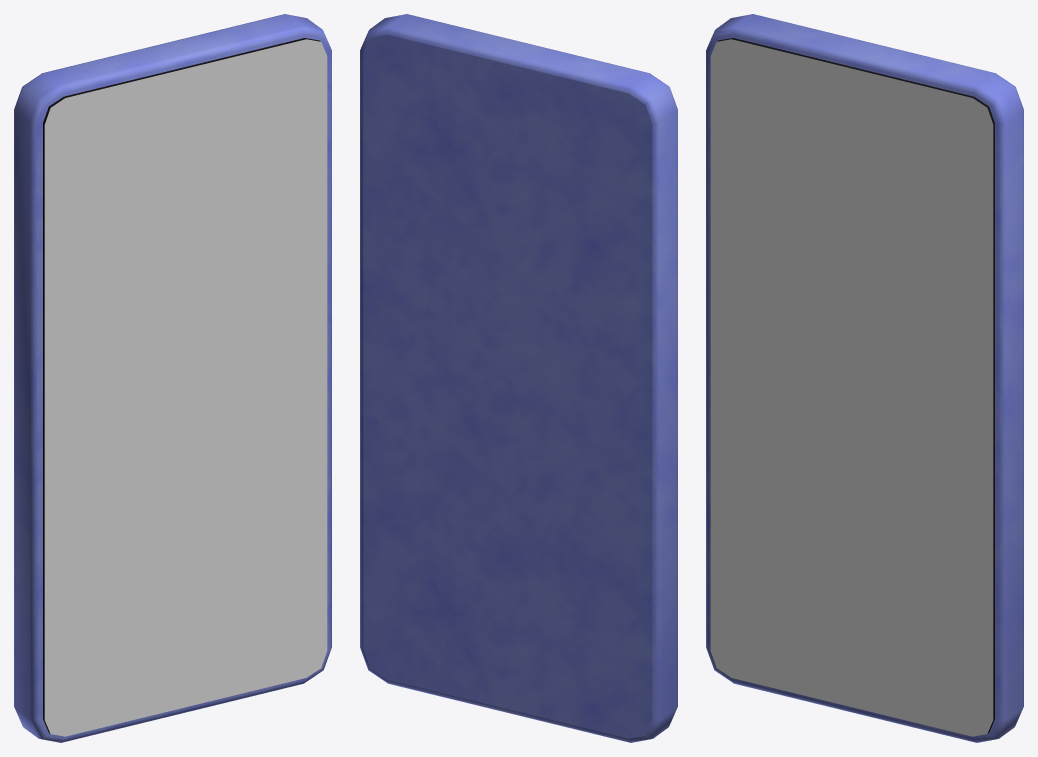
File: Phone.fbx
3 views of the same model, side by side, from view 1: azimuth 30°, elevation 25°; view 2: azimuth 150°, elevation 25°; view 3: azimuth 330°, elevation 25° (orthographic).
Visible parts, largest first — view 1: PhoneScreen, PhoneBody; view 2: PhoneBody; view 3: PhoneScreen, PhoneBody.
Boxes of the visible parts, x1,y1,x2,y2 form: PhoneScreen: (44, 39, 327, 736); PhoneBody: (14, 14, 331, 742); PhoneBody: (360, 14, 677, 742); PhoneScreen: (710, 39, 993, 736); PhoneBody: (706, 14, 1023, 742).
Bounding box in the file's own units: 15.6 × 32.6 × 2.17.
Materials: 1 (1 with a texture image).
